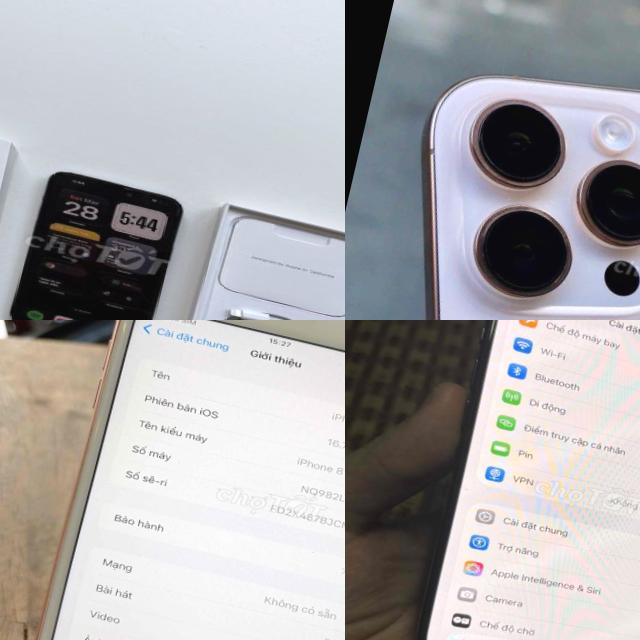gen_14: (3, 160, 190, 320)
gen_15: (383, 320, 640, 640)
gen_16: (422, 76, 640, 320)
gen_7_8: (7, 320, 345, 640)
scratch: (115, 320, 129, 336)
